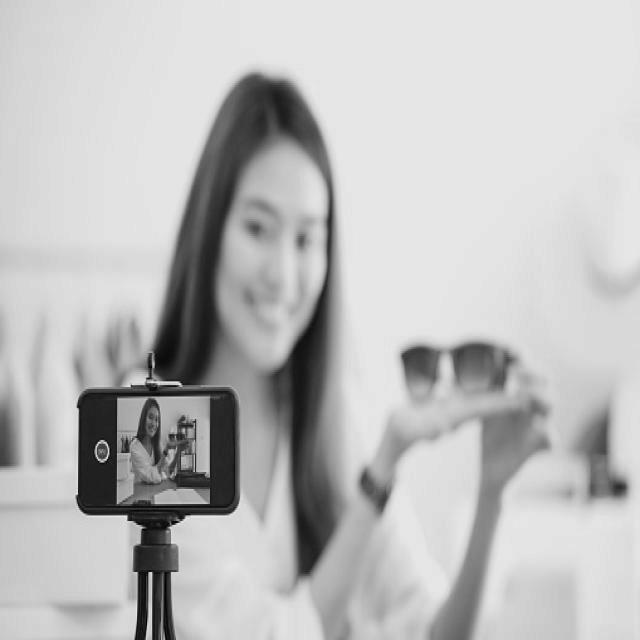fake: (73, 378, 243, 518)
